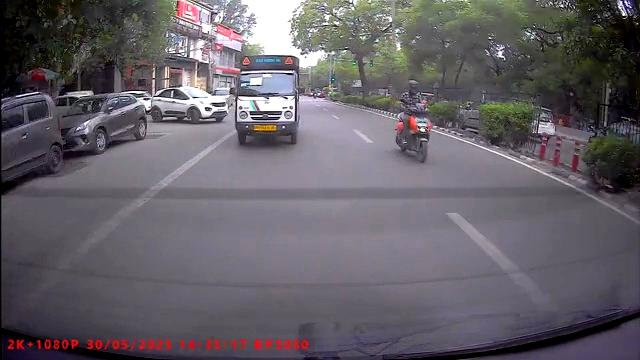motorcycle_with_helmet: (393, 78, 433, 165)
